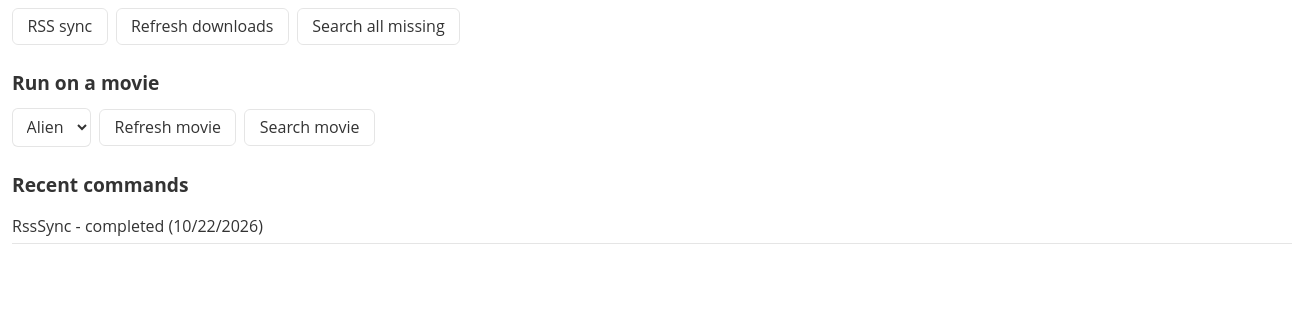
Test: CommandsSection › should target the selected movie for item commands
The image size is (1292, 319).
Select "Heat" in the dropdown named "Target movie" at (52, 127), box [12,108,91,147]
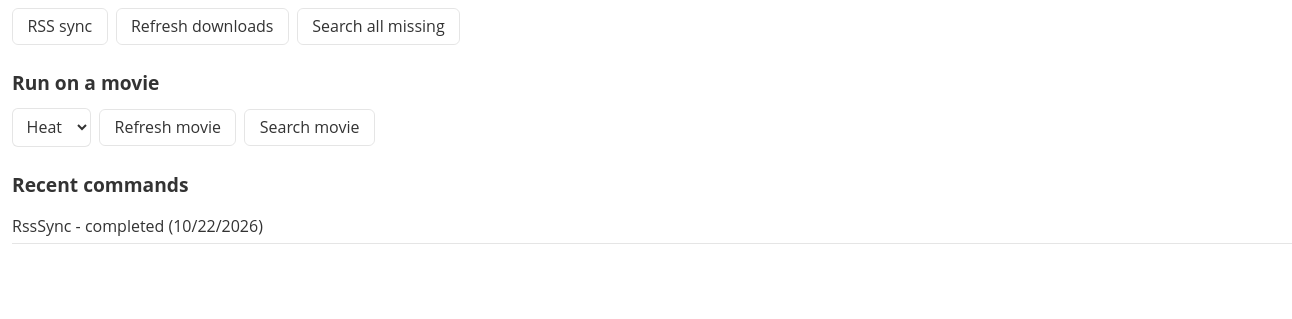
Click the button "Search movie" at (310, 127), box [244,109,375,146]
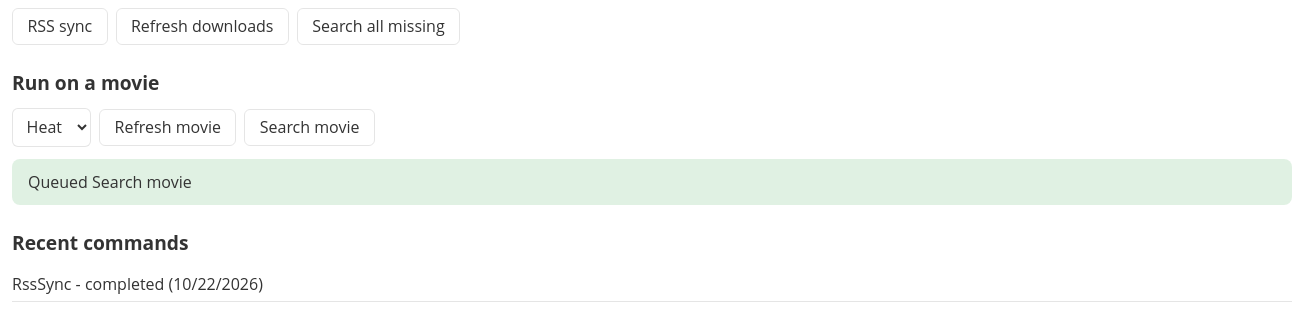
Now the text "Queued Search movie" is shown, box [12,159,1291,205]
